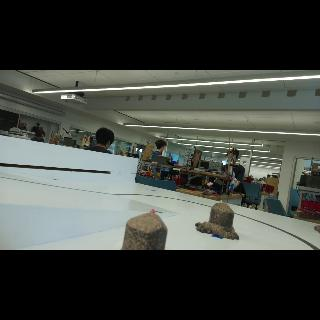teletubby: (150, 209, 155, 213), (220, 200, 222, 203)
